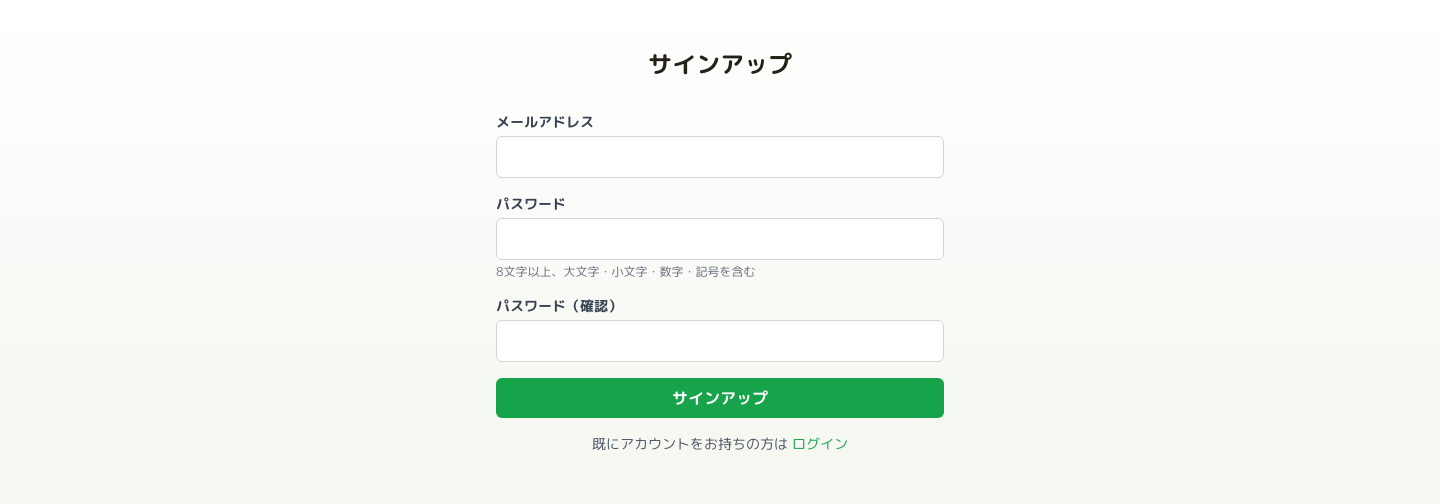
SignupPage › shows password validation error for missing uppercase
Type "lowercase1!" into the password field labelled "パスワード" at (720, 239), box [496,218,944,260]
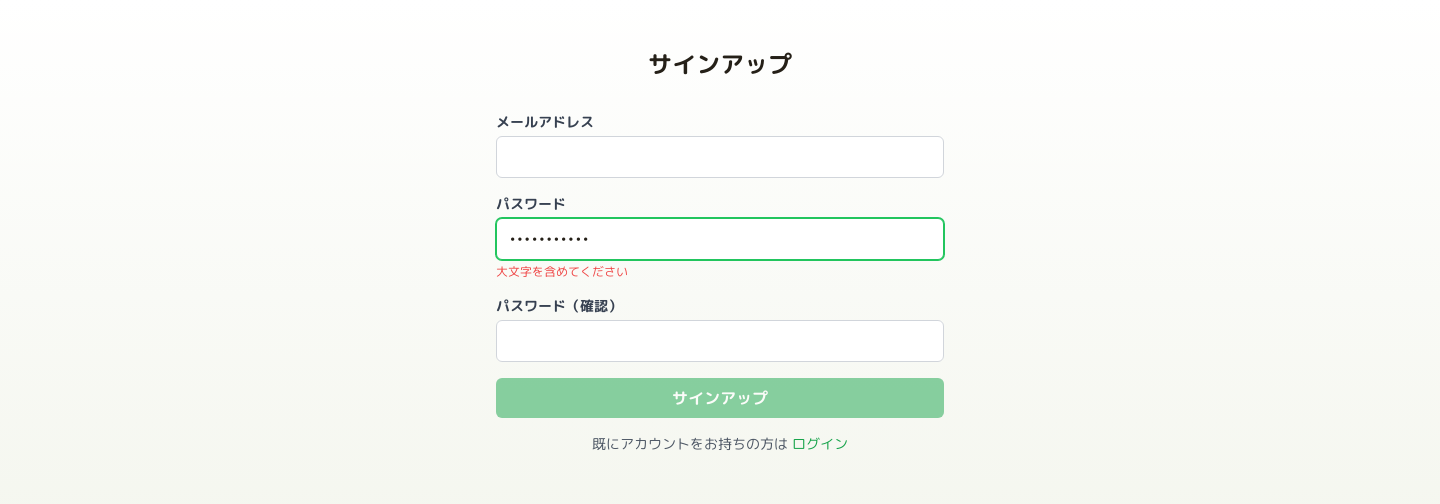
Result: the text "大文字を含めてください" is shown at [496,263,628,280]
